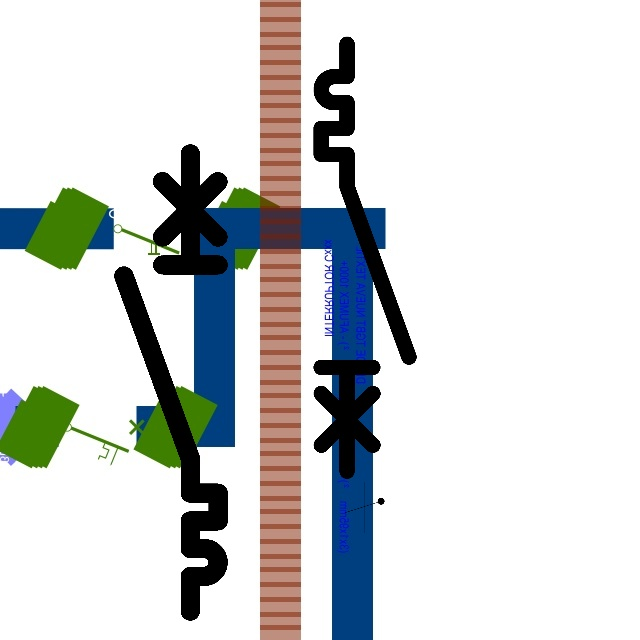interruptor_termomagnetico: (112, 142, 230, 623), (310, 33, 420, 482)
